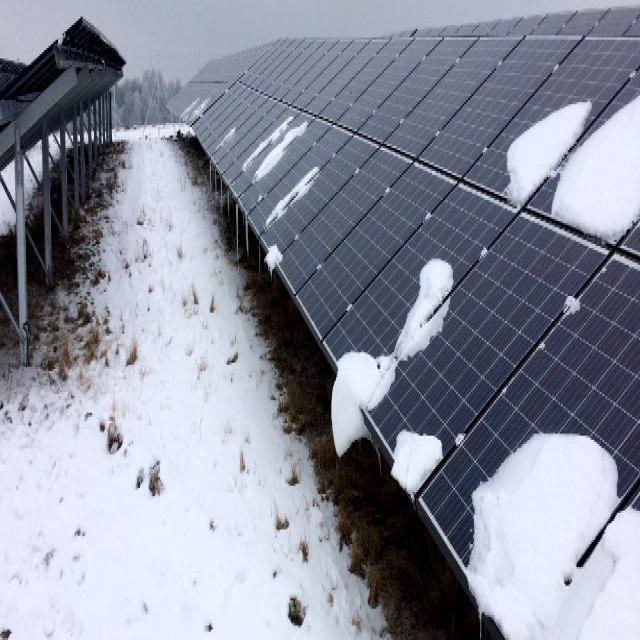panel: (475, 390, 640, 640), (546, 70, 640, 250), (384, 207, 458, 374), (497, 38, 544, 216), (392, 396, 466, 506), (262, 156, 326, 274), (325, 306, 390, 412), (232, 106, 326, 178), (564, 282, 594, 344)
